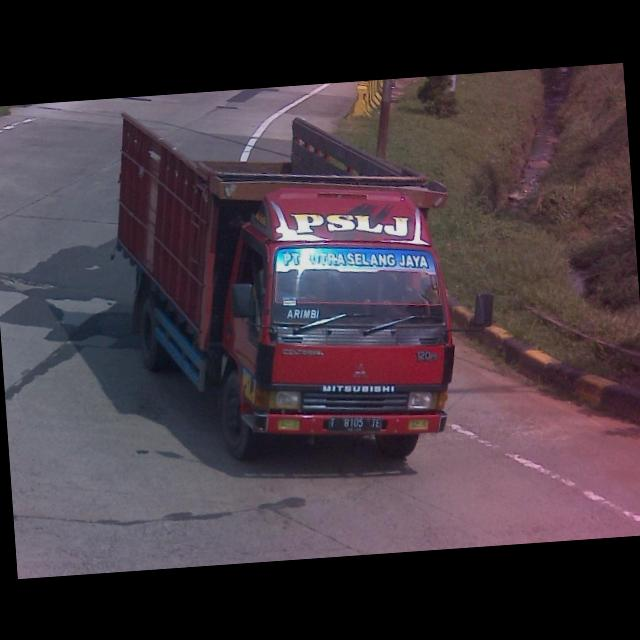plate: (325, 410, 383, 435)
